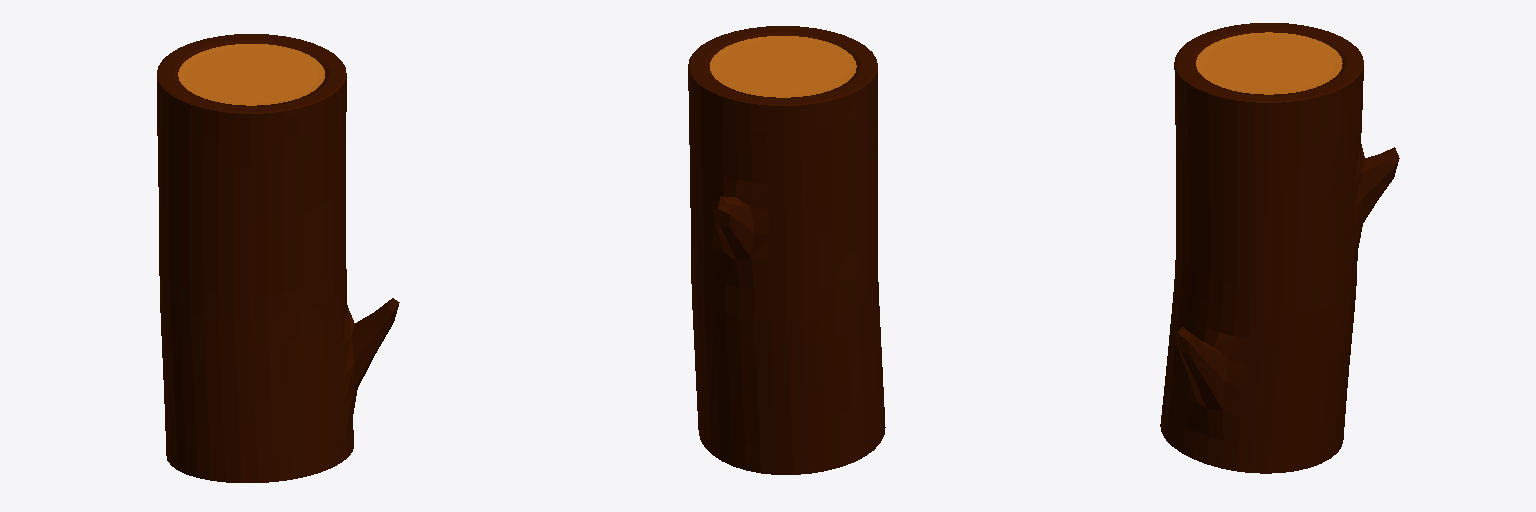
File: Log3.obj
3 views of the same model, side by side, from view 1: azimuth 30°, elevation 25°; view 2: azimuth 150°, elevation 25°; view 3: azimuth 270°, elevation 25° (orthographic).
Visible parts, largest first — view 1: Cylinder006; view 2: Cylinder006; view 3: Cylinder006.
Boxes of the visible parts, <box> form: Cylinder006: <box>157,34,399,482</box>; Cylinder006: <box>688,26,885,474</box>; Cylinder006: <box>1160,23,1399,473</box>.
Size of the model in its own units: 23.89 by 46.91 by 26.85.